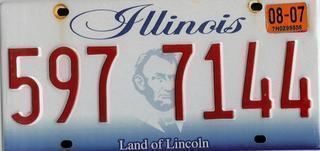placa de veiculo: (2, 0, 320, 150)
